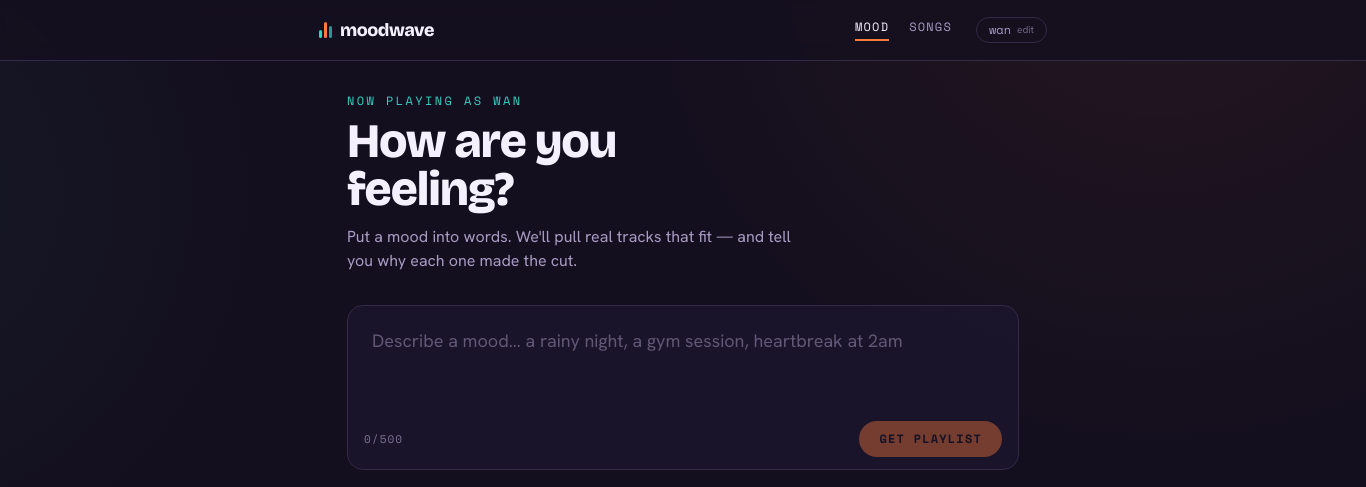
Test: App › shows the Mood page by default and navigates to Songs
The width and height of the screenshot is (1366, 487).
expect the text box with placeholder "Describe a mood" is shown: met, box 356,314 -> 1010,414
Click the link "Songs" at (931, 30), box 909,19 -> 952,41
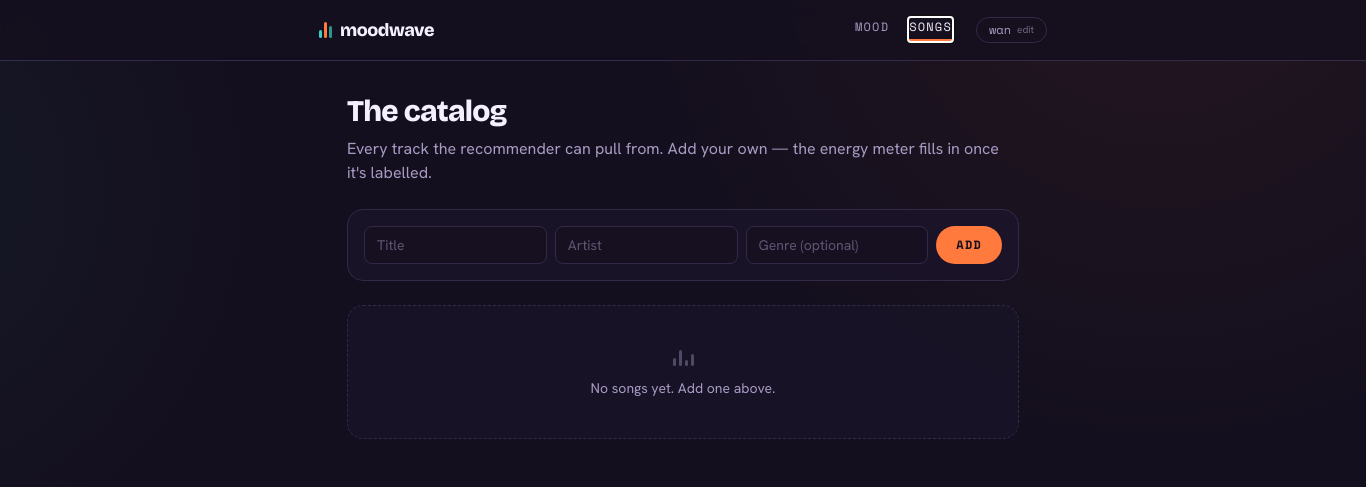
expect the field with placeholder "Title" is shown: met, box 364,226 -> 547,264
